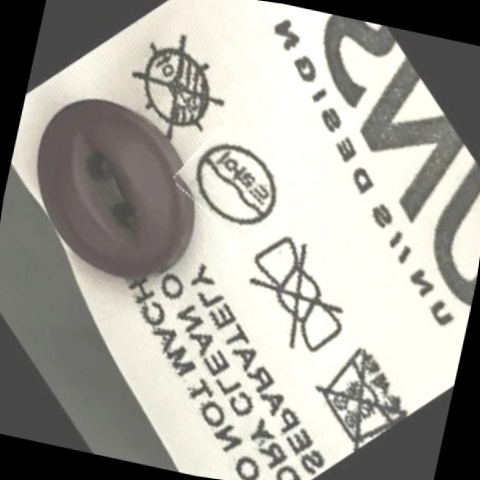DN_dry: (120, 30, 236, 147)
DN_wring: (232, 233, 362, 363)
dry_clean: (183, 131, 287, 238)
hand_wash: (305, 333, 415, 451)
